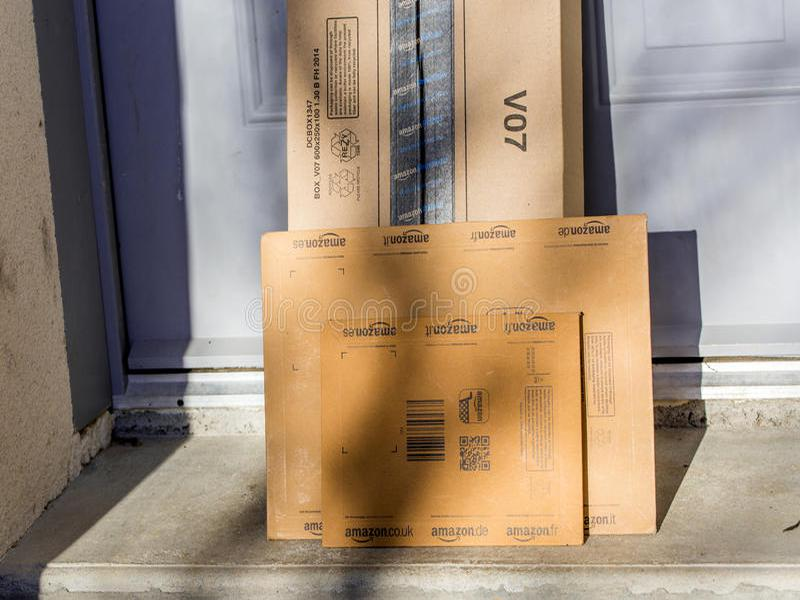package: (251, 206, 661, 544), (312, 311, 598, 553), (442, 13, 592, 222), (277, 13, 402, 226)
